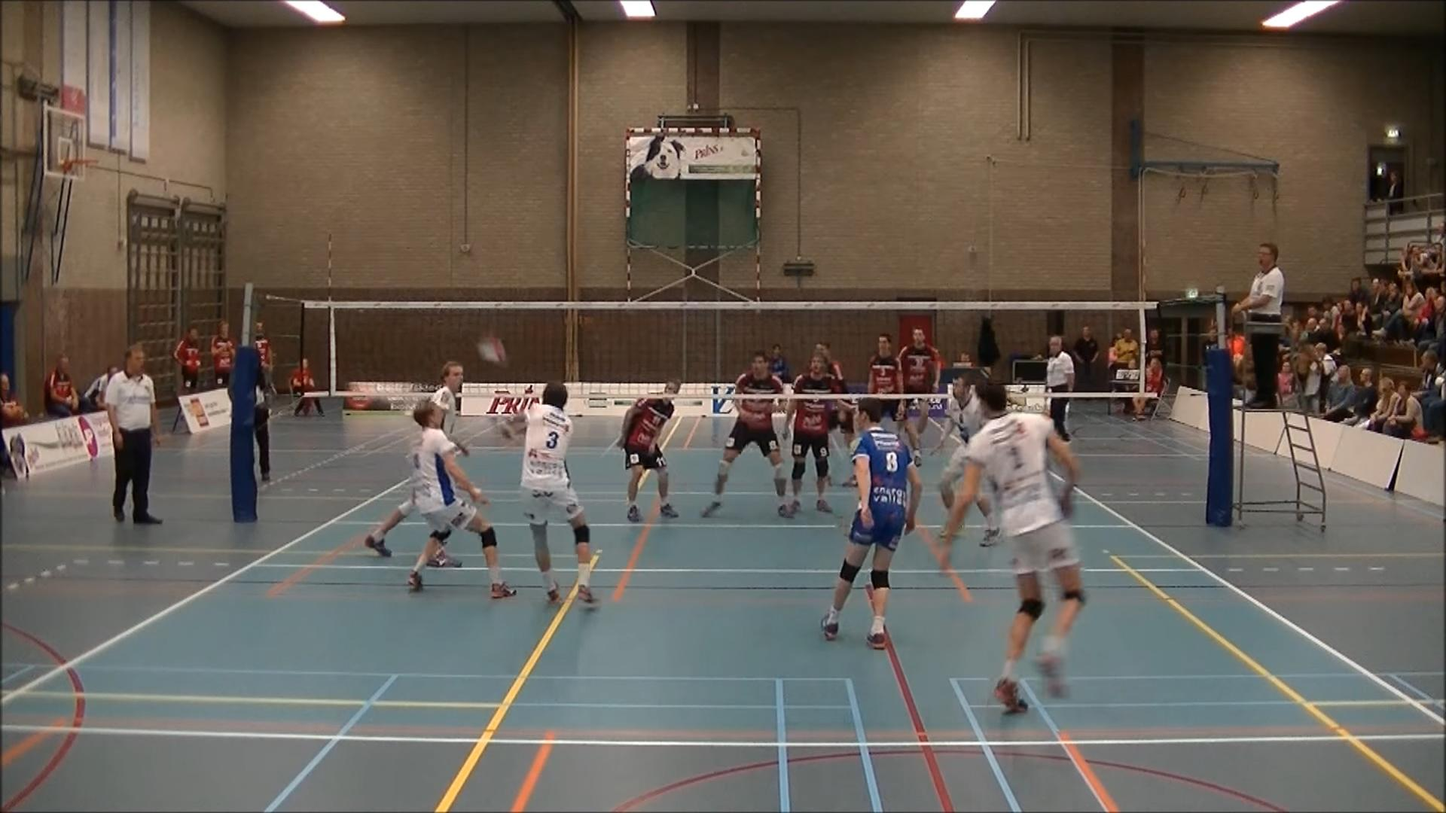ricezione: (497, 378, 605, 613)
